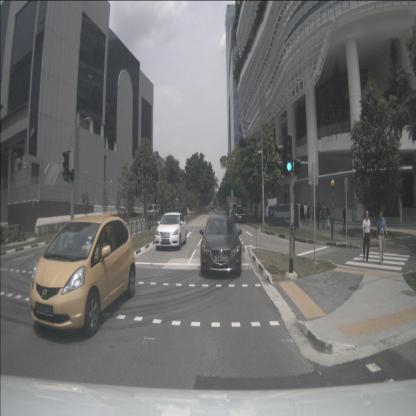human-pedestrian-adult: (376, 210, 388, 264), (362, 210, 372, 262), (325, 202, 331, 230), (342, 203, 347, 235), (321, 202, 326, 230), (315, 202, 320, 229), (303, 202, 308, 225), (308, 201, 313, 224), (318, 202, 322, 222)
vehicle-car: (30, 216, 136, 338), (200, 215, 242, 277), (155, 212, 187, 250), (147, 204, 160, 221), (233, 204, 244, 223)
vehicle-truck: (226, 196, 238, 218)
